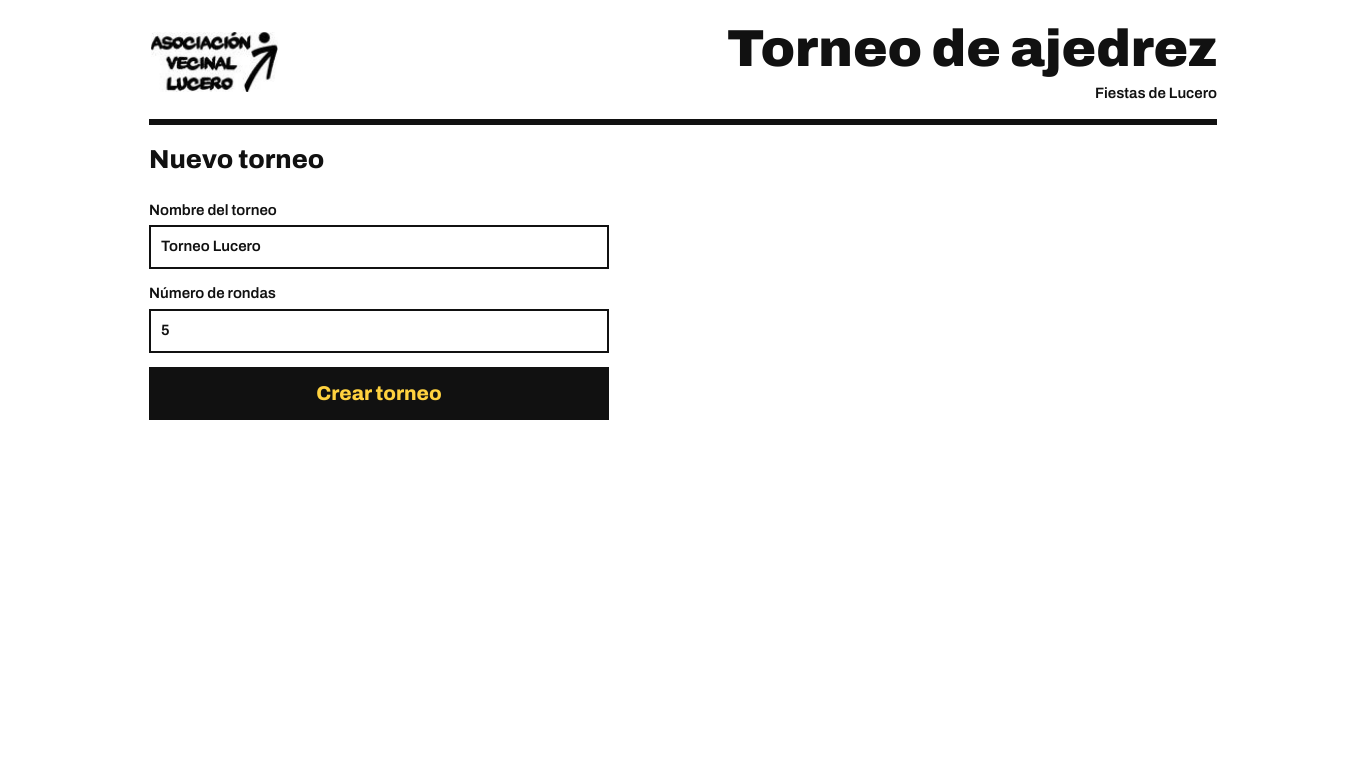
it: inscripción › un nombre repetido muestra un aviso
Replace the text in the field labelled "Nombre del torneo" with "Torneo de otoño" at coordinates (379, 247), box [149, 225, 609, 269]
Replace the text in the number field labelled "Número de rondas" with "3" at coordinates (379, 331), box [149, 309, 609, 353]
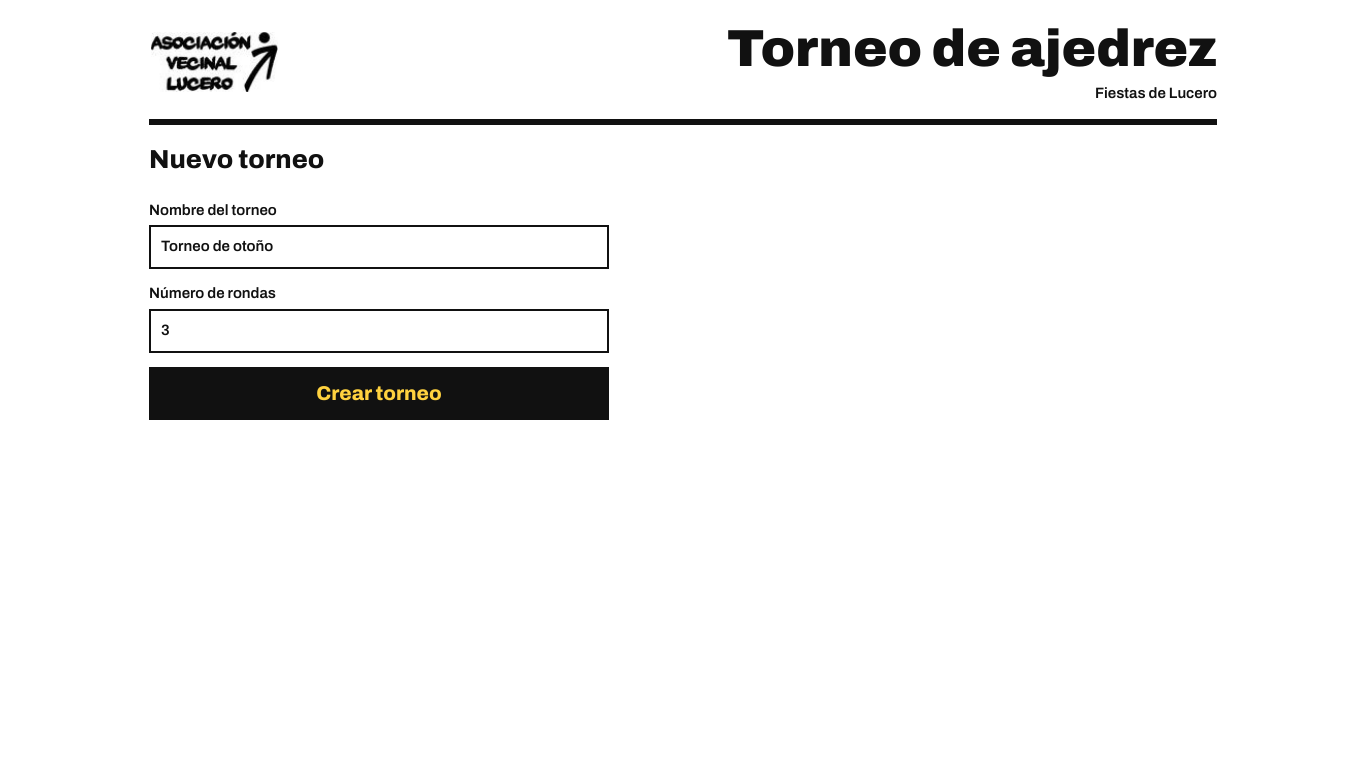
Click the button "Crear torneo" at coordinates (379, 394), box [149, 367, 609, 420]
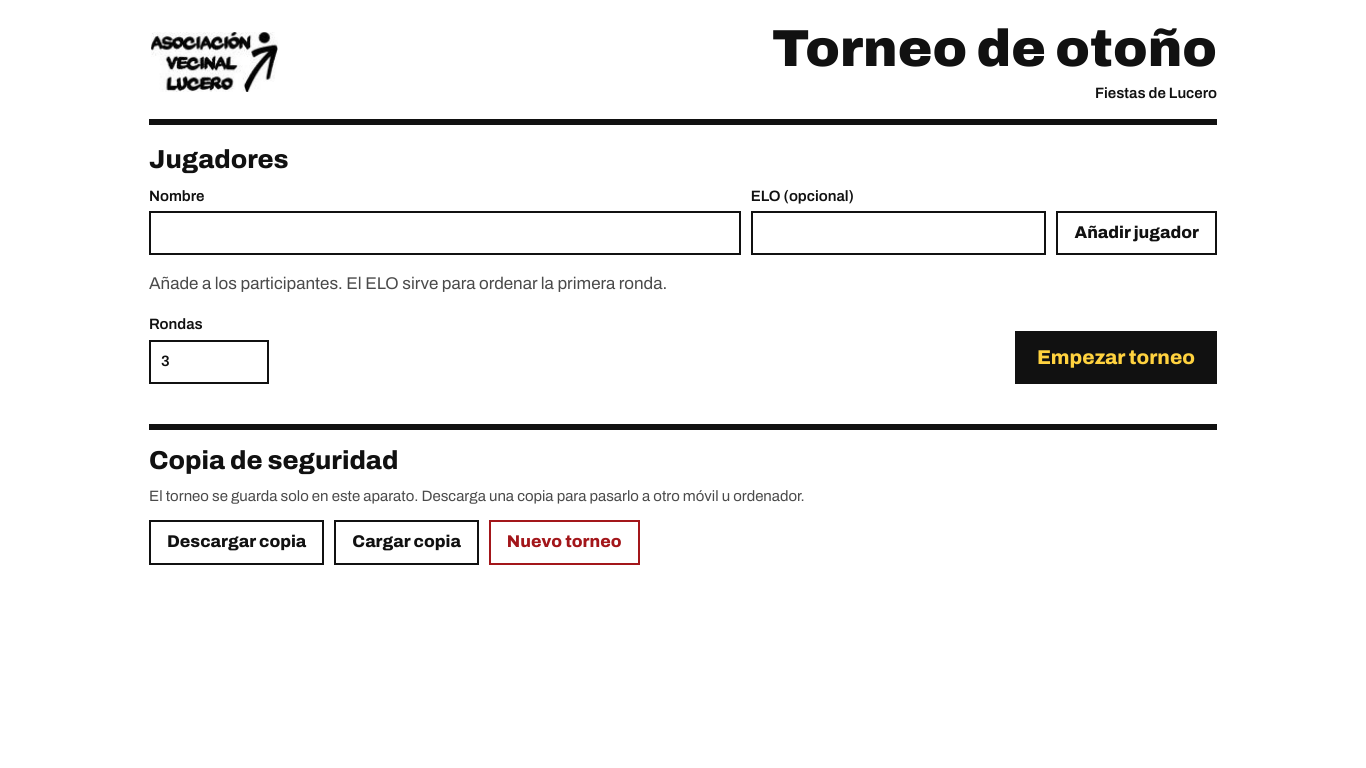
Type "Ana" into the field labelled "Nombre" at coordinates (445, 233), box [149, 211, 741, 255]
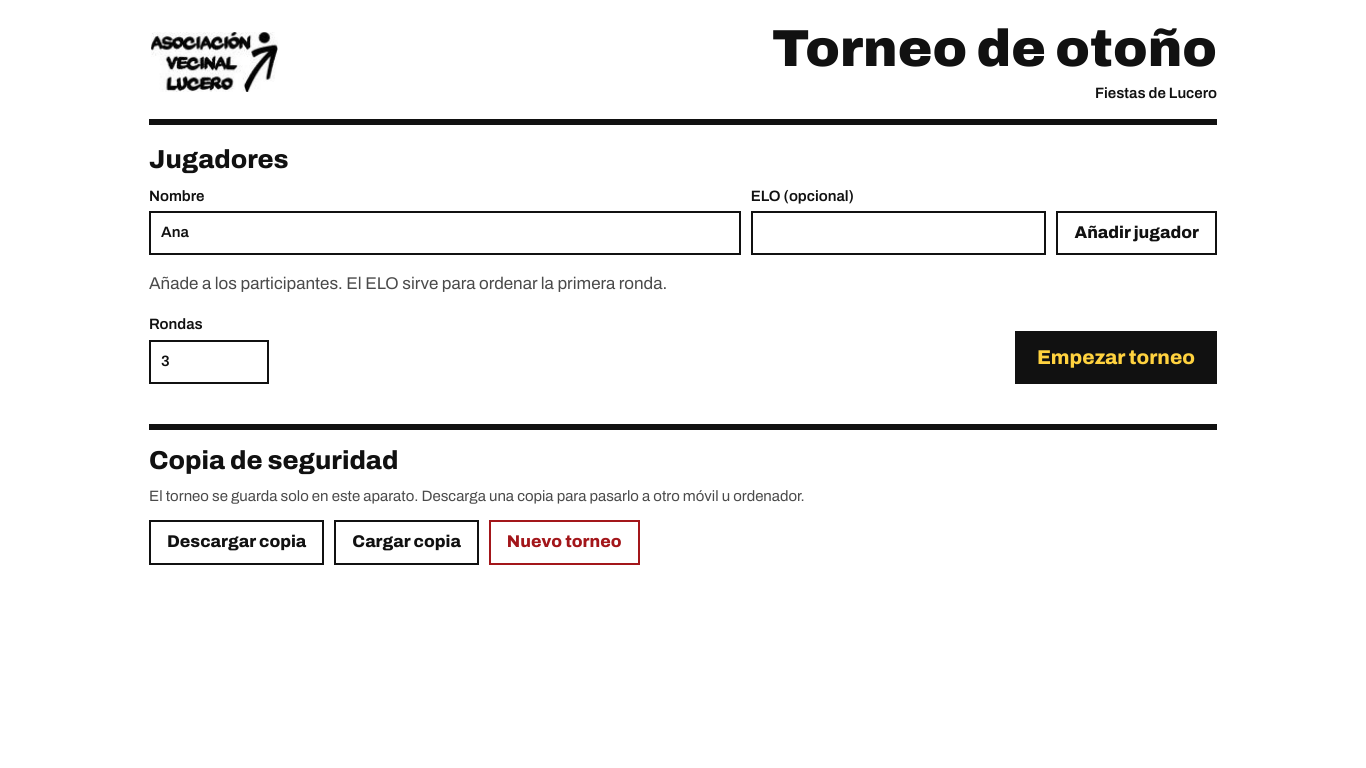
Click the button "Añadir jugador" at coordinates (1137, 233), box [1056, 211, 1217, 255]
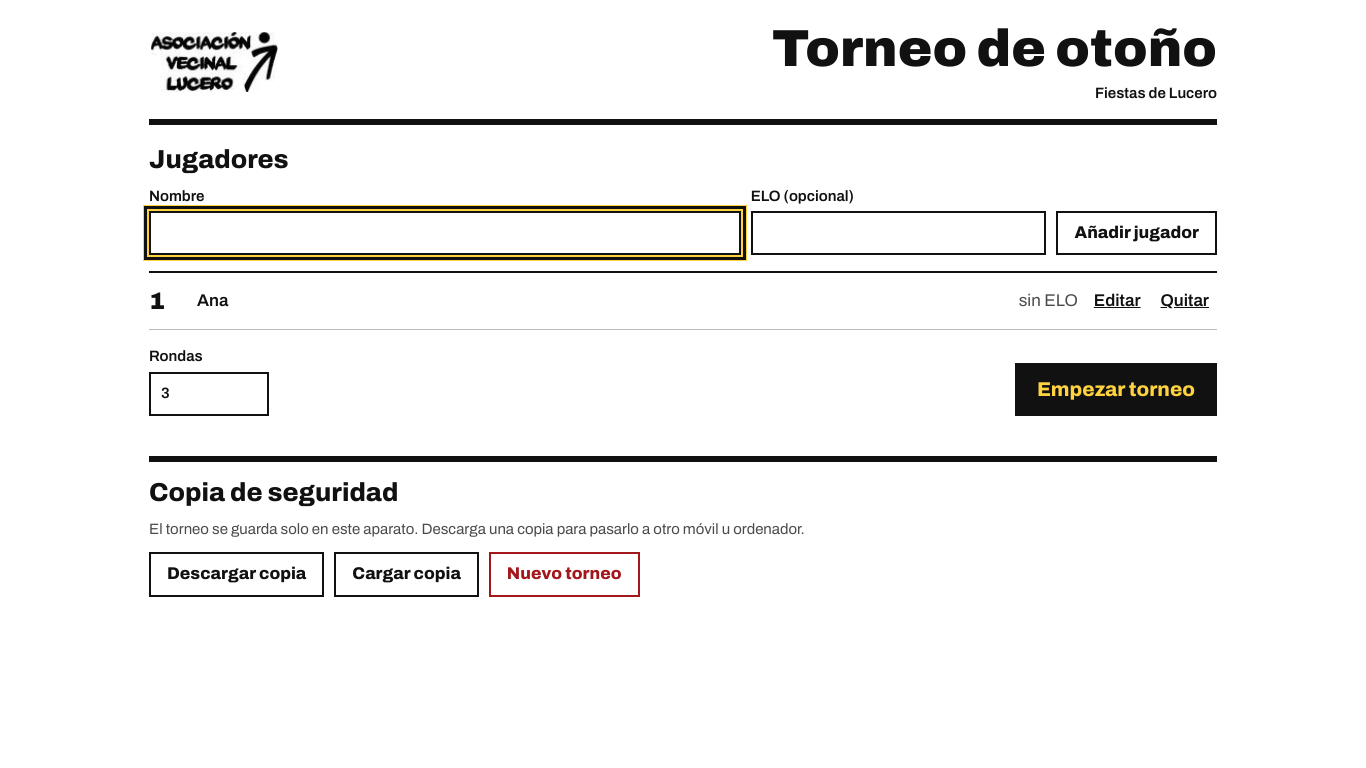
Type "Ana" into the field labelled "Nombre" at coordinates (445, 233), box [149, 211, 741, 255]
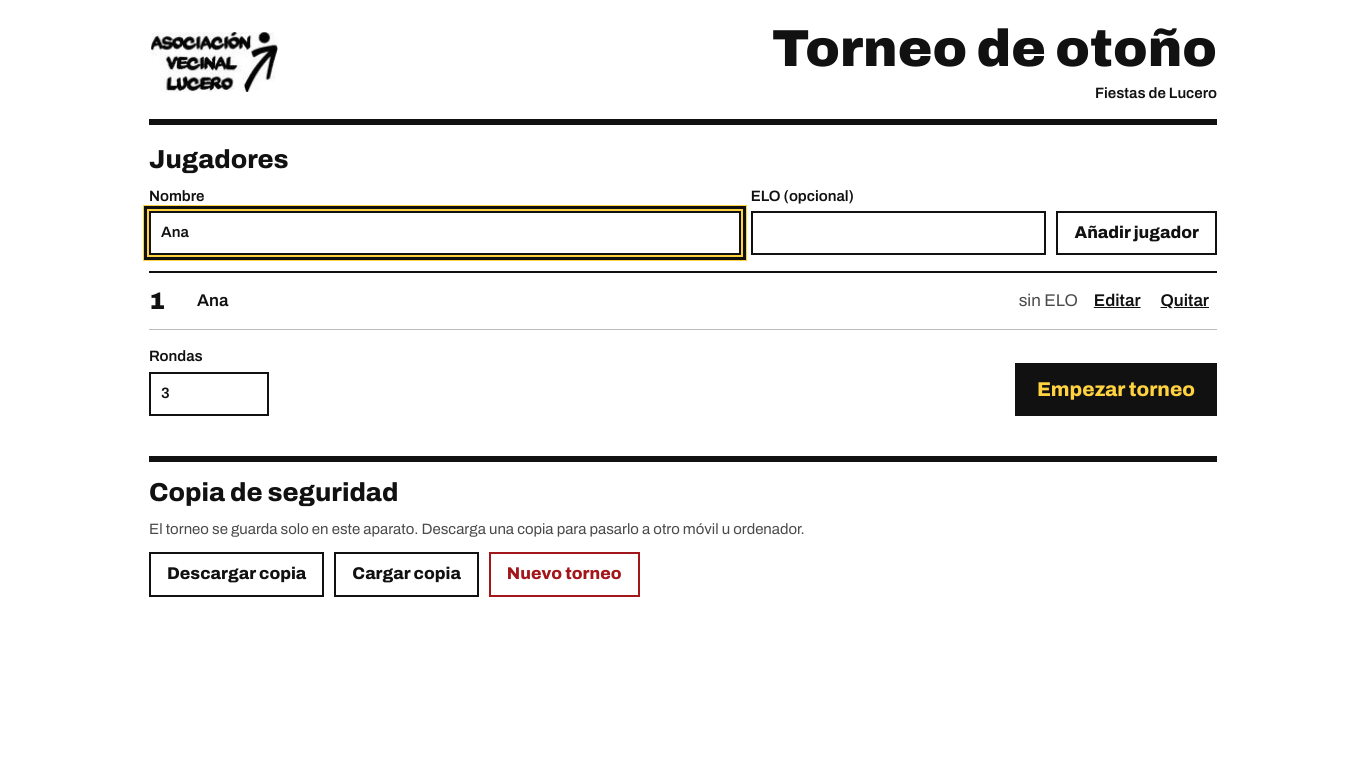
Click the button "Añadir jugador" at coordinates (1137, 233), box [1056, 211, 1217, 255]
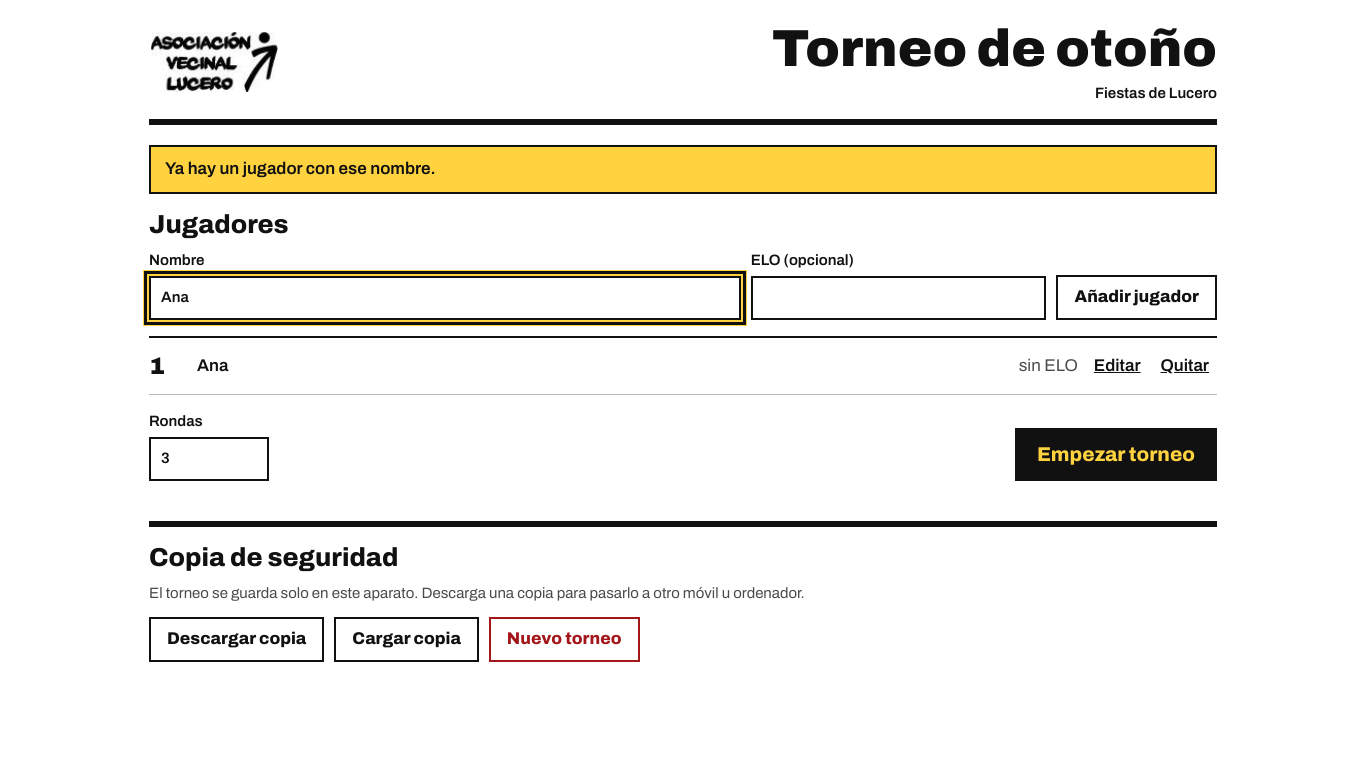
Expected: the number of list items is 1, [149, 338, 1217, 395]
Expected: the message reads "Ya hay un jugador con ese nombre.", [165, 159, 436, 178]
